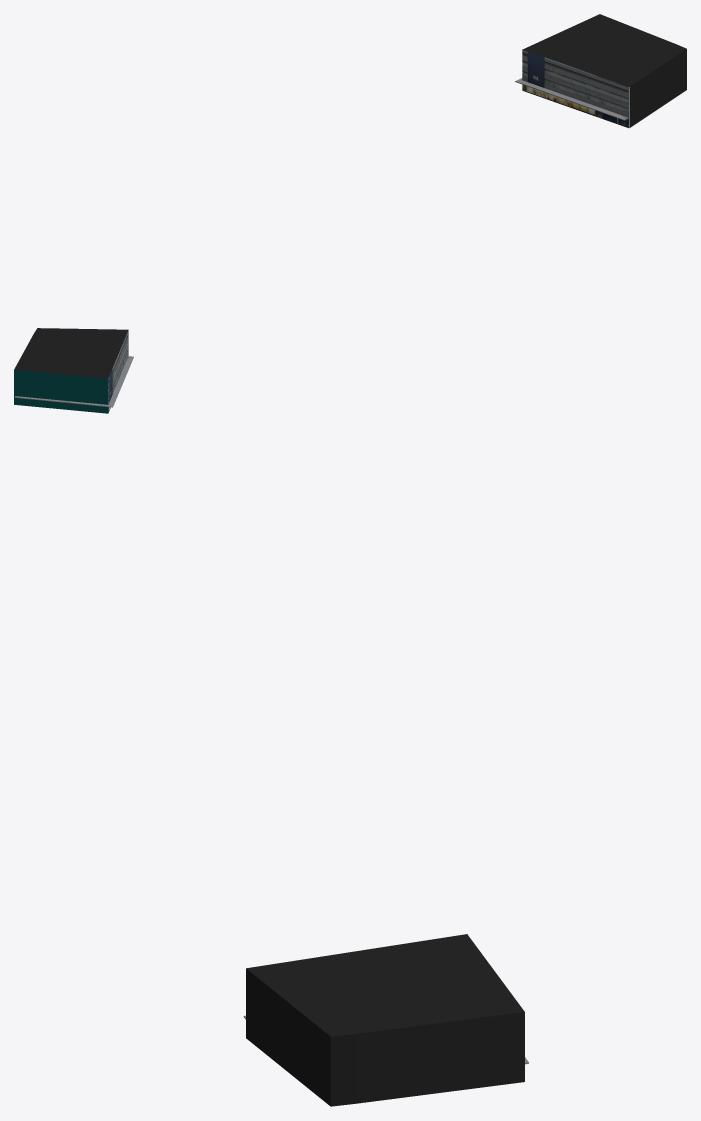
File: B_C_und_A.FBX
3 renders of one model, top to bottom at view 1: azimuth 30°, elevation 25°; view 2: azimuth 150°, elevation 25°; view 3: azimuth 270°, elevation 25°, orthographic. The views are drawn at different scales.
Parts seen in each view (by area): view 1: B_C_und_A, B_C_und_A_front, c_und_A_element; view 2: B_C_und_A, B_C_und_A_Side, B_C_und_A_front, c_und_A_element; view 3: B_C_und_A.
Part boxes in pixels (x1,y1,x2,y2): B_C_und_A: (523,14,686,127); B_C_und_A_front: (522,49,628,128); c_und_A_element: (515,78,628,120); B_C_und_A: (14,328,128,378); B_C_und_A_Side: (14,370,108,413); B_C_und_A_front: (108,330,128,412); c_und_A_element: (15,356,133,407); B_C_und_A: (246,934,524,1106).
Size of the model in its own units: 29103 by 1596 by 7378.
Materials: 4 (1 with a texture image).
